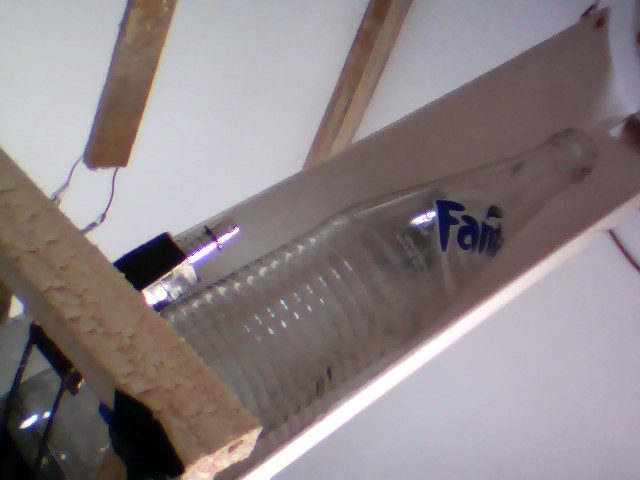vidrio: (202, 124, 608, 437)
